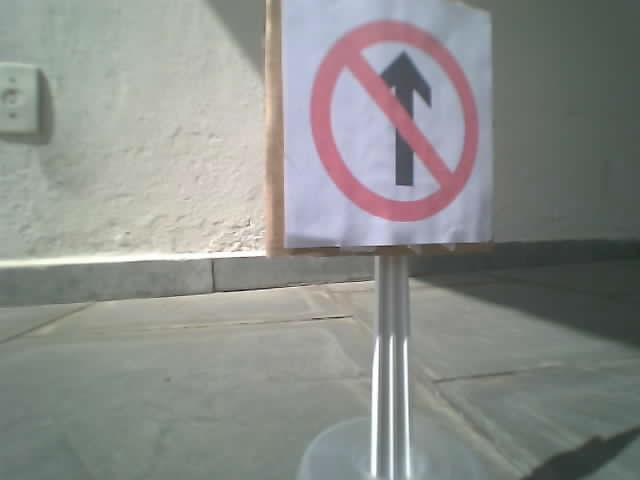R-3_sentido-proibido: (307, 18, 477, 221)
